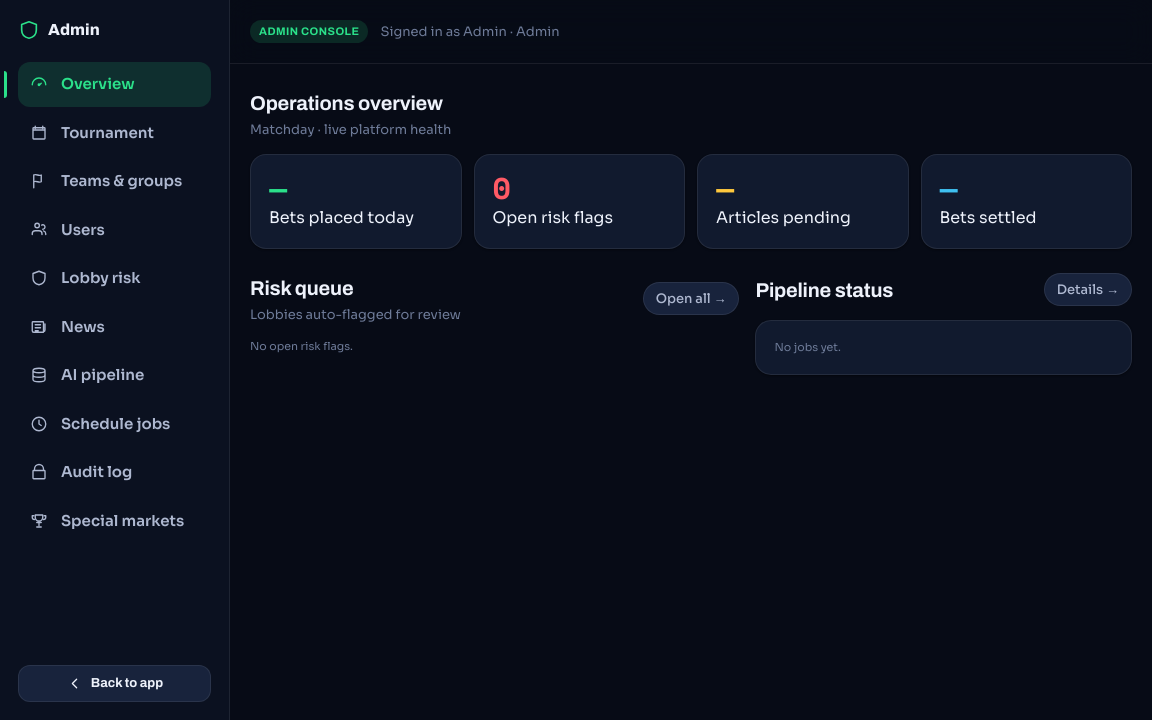
it: Admin › clicking Tournament tab shows Tournament management
Click the button "Tournament": (114, 133) [18,110,211,155]
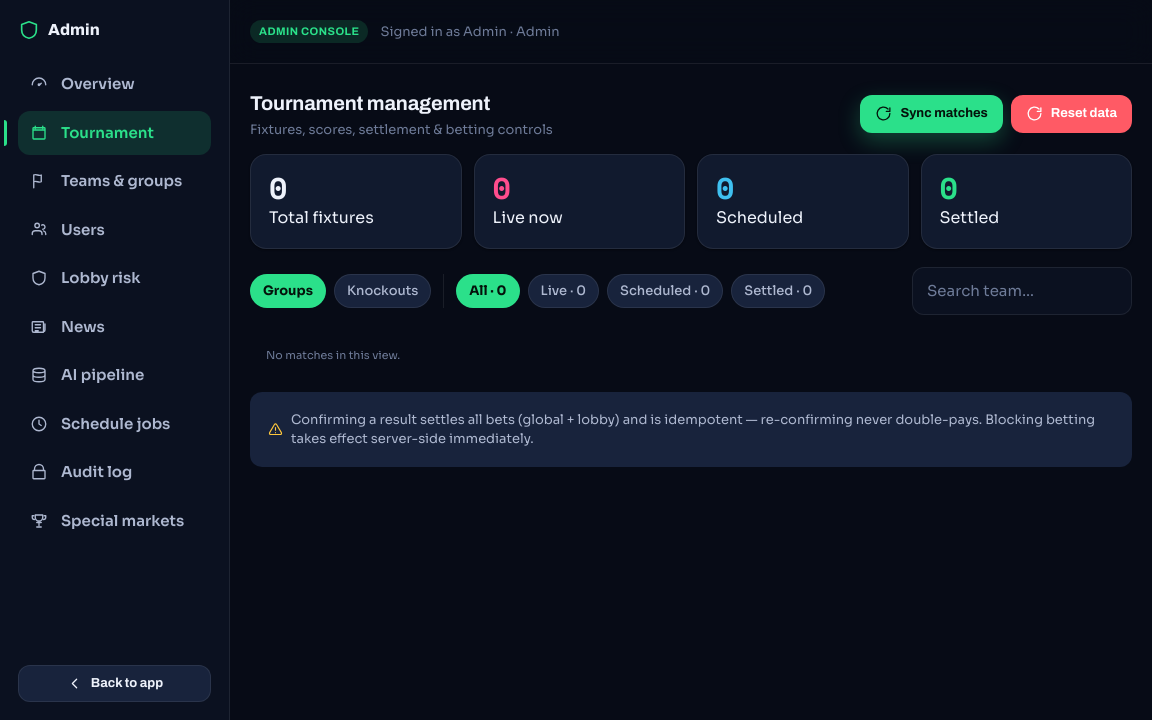
Expected: the text "Tournament management" is shown, [250,92,490,114]
